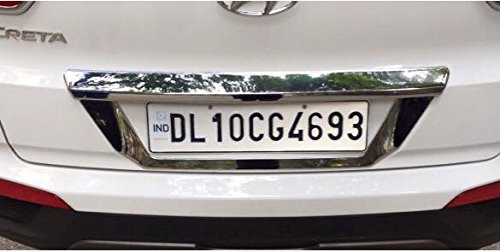plate: (138, 78, 381, 186)
